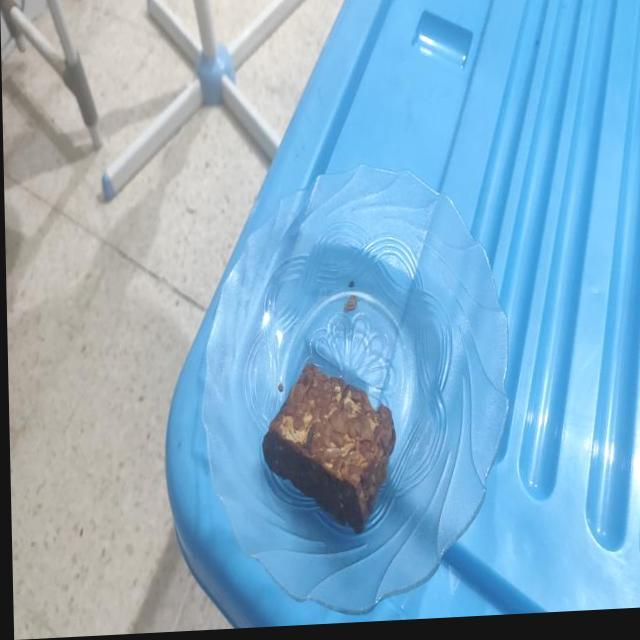tempe_goreng: (262, 364, 396, 533)
